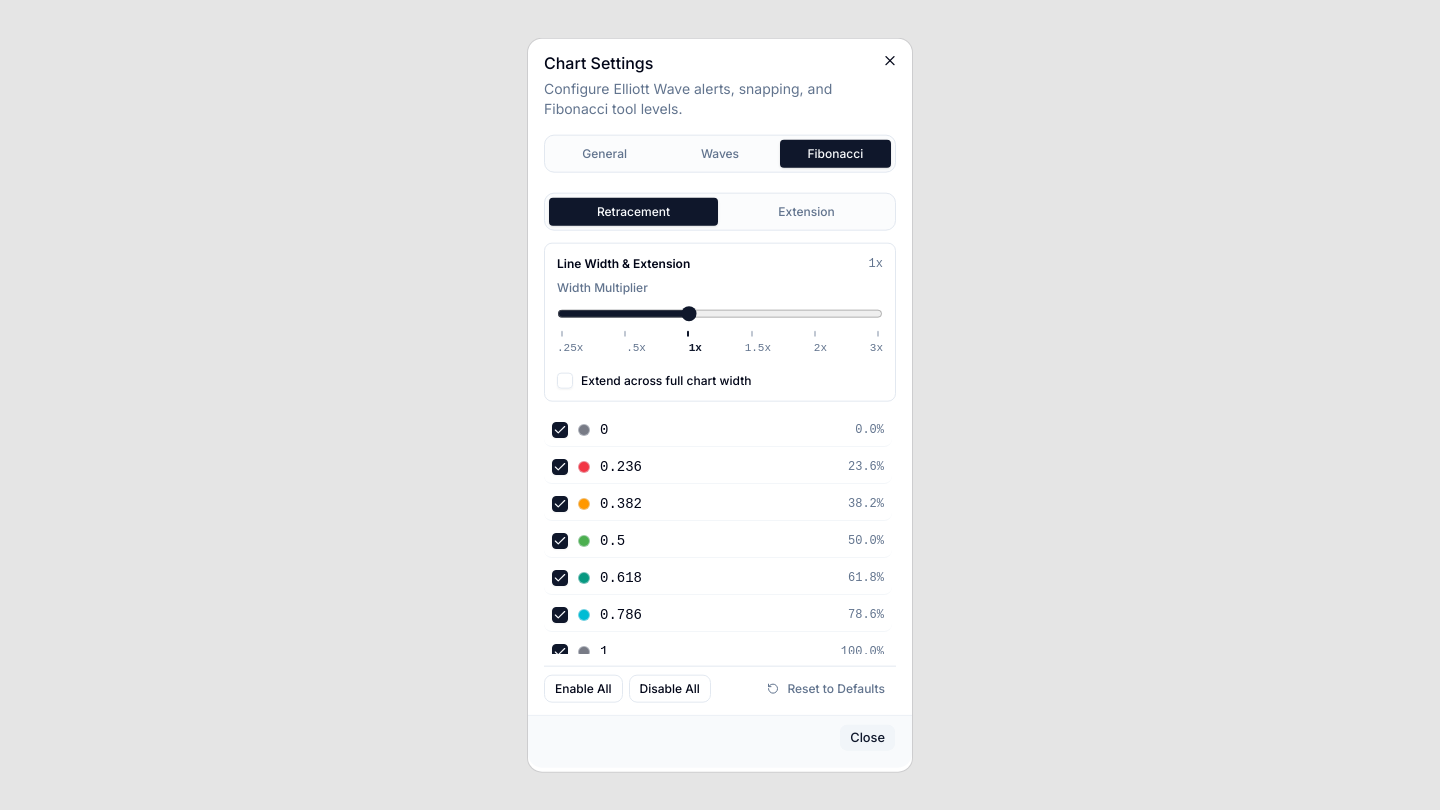
it: ChartSettingsModal Component › Fibonacci Section - Migrated Dialog Tests › switches between Retracement and Extension sub-tabs on click
Expected: the button with test id "fib-level-row-0.236" is shown, [544, 450, 892, 483]
// Switch to Extension
Click the tab "Extension" at (806, 212), box [722, 198, 891, 226]
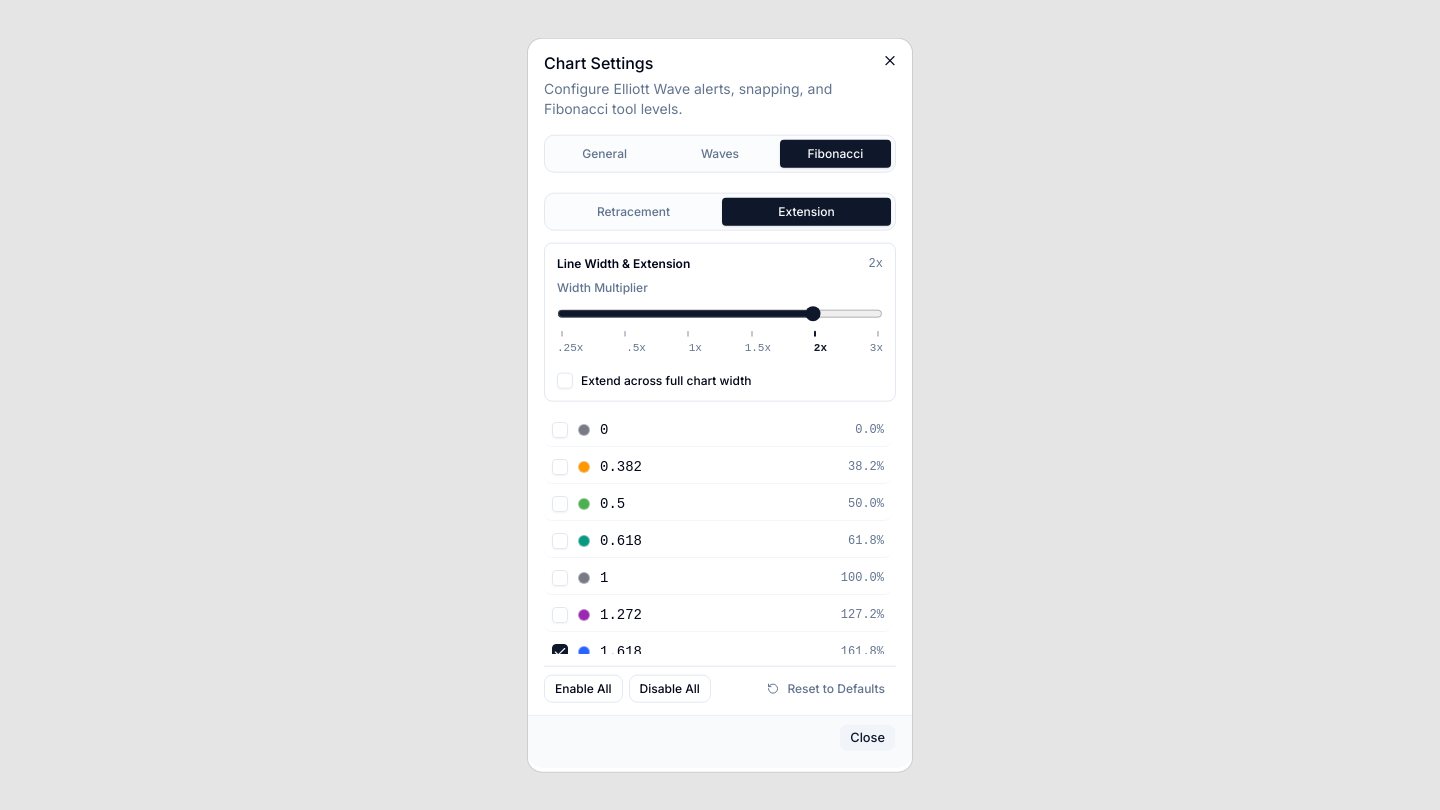
Result: the tab "Extension" is selected at [722, 198, 891, 226]
Result: the tab "Retracement" is not selected
// Switch back to Retracement
Click the tab "Retracement" at (634, 212), box [549, 198, 718, 226]
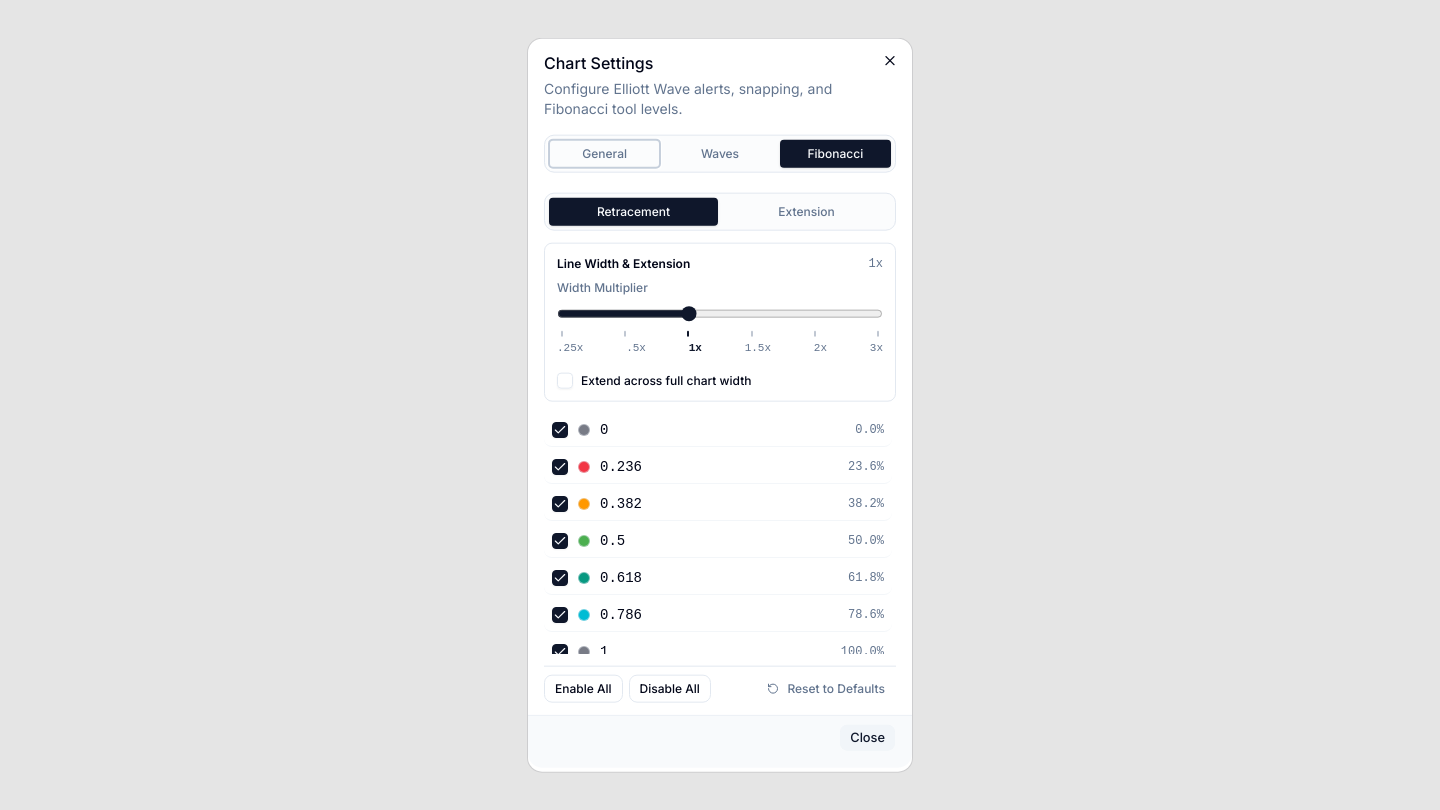
Result: the button with test id "fib-level-row-0.236" is shown at [544, 450, 892, 483]
